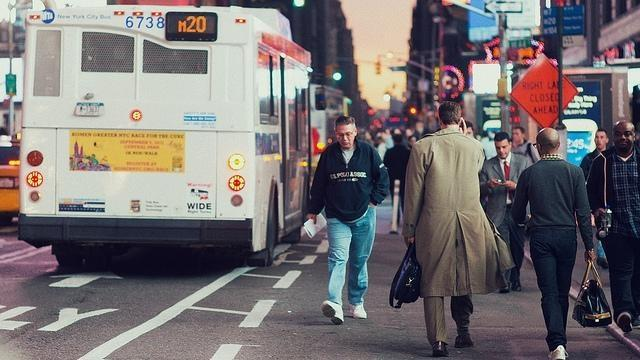bus: (18, 4, 312, 272), (310, 83, 352, 187)
truck: (18, 7, 314, 269)
